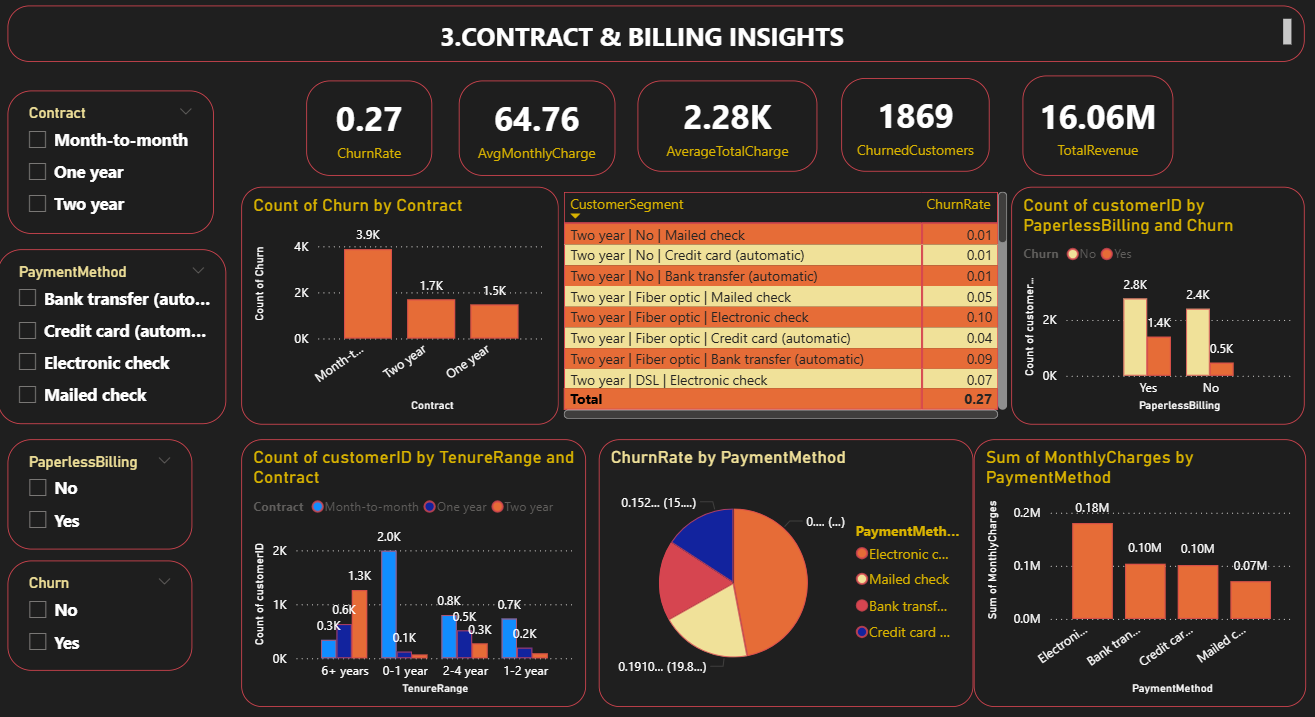

The page's visual inventory and layout, read from the dashboard file:
{"tool":"powerbi","page":{"name":"Dashboard 3","canvas":[1280,720],"ordinal":2},"visuals":[{"type":"textbox","box":[16.9,12.1,1252.3,54.3],"z":0},{"type":"slicer","fields":{"Values":["WA_Fn-UseC_-Telco-Customer-Churn.Contract"]},"box":[16.9,94.1,199.1,138.7],"z":1000},{"type":"slicer","fields":{"Values":["WA_Fn-UseC_-Telco-Customer-Churn.PaymentMethod"]},"box":[7.2,247.3,220.8,168.9],"z":2000},{"type":"slicer","fields":{"Values":["WA_Fn-UseC_-Telco-Customer-Churn.PaperlessBilling"]},"box":[16.9,430.7,178.6,106.2],"z":3000},{"type":"slicer","fields":{"Values":["WA_Fn-UseC_-Telco-Customer-Churn.Churn"]},"box":[16.9,547.7,178.6,106.2],"z":4000},{"type":"card","fields":{"Values":["WA_Fn-UseC_-Telco-Customer-Churn.ChurnRate"]},"box":[305.2,84.5,121.9,91.7],"z":5000},{"type":"card","fields":{"Values":["WA_Fn-UseC_-Telco-Customer-Churn.AvgMonthlyCharge"]},"box":[452.4,84.5,150.8,91.7],"z":6000},{"type":"card","fields":{"Values":["WA_Fn-UseC_-Telco-Customer-Churn.AverageTotalCharge"]},"box":[624.9,84.5,173.7,88.1],"z":7000},{"type":"card","fields":{"Values":["WA_Fn-UseC_-Telco-Customer-Churn.ChurnedCustomers"]},"box":[821.6,82,143.6,90.5],"z":8000},{"type":"card","fields":{"Values":["WA_Fn-UseC_-Telco-Customer-Churn.TotalRevenue"]},"box":[996.5,79.6,146,96.5],"z":9000},{"type":"clusteredColumnChart","fields":{"Category":["WA_Fn-UseC_-Telco-Customer-Churn.Contract"],"Y":["CountNonNull(WA_Fn-UseC_-Telco-Customer-Churn.Churn)"]},"box":[242.5,187,306.4,229.2],"z":10000},{"type":"clusteredColumnChart","fields":{"Category":["WA_Fn-UseC_-Telco-Customer-Churn.TenureRange"],"Y":["CountNonNull(WA_Fn-UseC_-Telco-Customer-Churn.customerID)"],"Series":["WA_Fn-UseC_-Telco-Customer-Churn.Contract"]},"box":[242.5,430.7,333,258.2],"z":11000},{"type":"pivotTable","fields":{"Rows":["WA_Fn-UseC_-Telco-Customer-Churn.CustomerSegment"],"Values":["WA_Fn-UseC_-Telco-Customer-Churn.ChurnRate"]},"box":[548.9,187,437.9,229.2],"z":12000},{"type":"pieChart","fields":{"Category":["WA_Fn-UseC_-Telco-Customer-Churn.PaymentMethod"],"Y":["WA_Fn-UseC_-Telco-Customer-Churn.ChurnRate"]},"box":[587.5,430.7,361.9,258.2],"z":13000},{"type":"clusteredColumnChart","fields":{"Category":["WA_Fn-UseC_-Telco-Customer-Churn.PaperlessBilling"],"Y":["CountNonNull(WA_Fn-UseC_-Telco-Customer-Churn.customerID)"],"Series":["WA_Fn-UseC_-Telco-Customer-Churn.Churn"]},"box":[985.7,187,283.5,229.2],"z":14000},{"type":"lineClusteredColumnComboChart","fields":{"Category":["WA_Fn-UseC_-Telco-Customer-Churn.PaymentMethod"],"Y":["Sum(WA_Fn-UseC_-Telco-Customer-Churn.MonthlyCharges)"]},"box":[949.5,430.7,320.9,258.2],"z":15000}]}

Visuals, with their boxes on the page's 1280x720 design canvas (x1, y1, x2, y2). These are canvas units, not pixel positions in the 1315x717 screenshot, which may show the page scaled, cropped or inside an application window:
textbox: {"left": 17, "top": 12, "right": 1269, "bottom": 66}
slicer - WA_Fn-UseC_-Telco-Customer-Churn.Contract: {"left": 17, "top": 94, "right": 216, "bottom": 233}
slicer - WA_Fn-UseC_-Telco-Customer-Churn.PaymentMethod: {"left": 7, "top": 247, "right": 228, "bottom": 416}
slicer - WA_Fn-UseC_-Telco-Customer-Churn.PaperlessBilling: {"left": 17, "top": 431, "right": 196, "bottom": 537}
slicer - WA_Fn-UseC_-Telco-Customer-Churn.Churn: {"left": 17, "top": 548, "right": 196, "bottom": 654}
card - WA_Fn-UseC_-Telco-Customer-Churn.ChurnRate: {"left": 305, "top": 84, "right": 427, "bottom": 176}
card - WA_Fn-UseC_-Telco-Customer-Churn.AvgMonthlyCharge: {"left": 452, "top": 84, "right": 603, "bottom": 176}
card - WA_Fn-UseC_-Telco-Customer-Churn.AverageTotalCharge: {"left": 625, "top": 84, "right": 799, "bottom": 173}
card - WA_Fn-UseC_-Telco-Customer-Churn.ChurnedCustomers: {"left": 822, "top": 82, "right": 965, "bottom": 172}
card - WA_Fn-UseC_-Telco-Customer-Churn.TotalRevenue: {"left": 996, "top": 80, "right": 1142, "bottom": 176}
clusteredColumnChart - WA_Fn-UseC_-Telco-Customer-Churn.Contract x CountNonNull(WA_Fn-UseC_-Telco-Customer-Churn.Churn): {"left": 242, "top": 187, "right": 549, "bottom": 416}
clusteredColumnChart - WA_Fn-UseC_-Telco-Customer-Churn.TenureRange x CountNonNull(WA_Fn-UseC_-Telco-Customer-Churn.customerID): {"left": 242, "top": 431, "right": 576, "bottom": 689}
pivotTable - WA_Fn-UseC_-Telco-Customer-Churn.CustomerSegment x WA_Fn-UseC_-Telco-Customer-Churn.ChurnRate: {"left": 549, "top": 187, "right": 987, "bottom": 416}
pieChart - WA_Fn-UseC_-Telco-Customer-Churn.PaymentMethod x WA_Fn-UseC_-Telco-Customer-Churn.ChurnRate: {"left": 588, "top": 431, "right": 949, "bottom": 689}
clusteredColumnChart - WA_Fn-UseC_-Telco-Customer-Churn.PaperlessBilling x CountNonNull(WA_Fn-UseC_-Telco-Customer-Churn.customerID): {"left": 986, "top": 187, "right": 1269, "bottom": 416}
lineClusteredColumnComboChart - WA_Fn-UseC_-Telco-Customer-Churn.PaymentMethod x Sum(WA_Fn-UseC_-Telco-Customer-Churn.MonthlyCharges): {"left": 950, "top": 431, "right": 1270, "bottom": 689}
